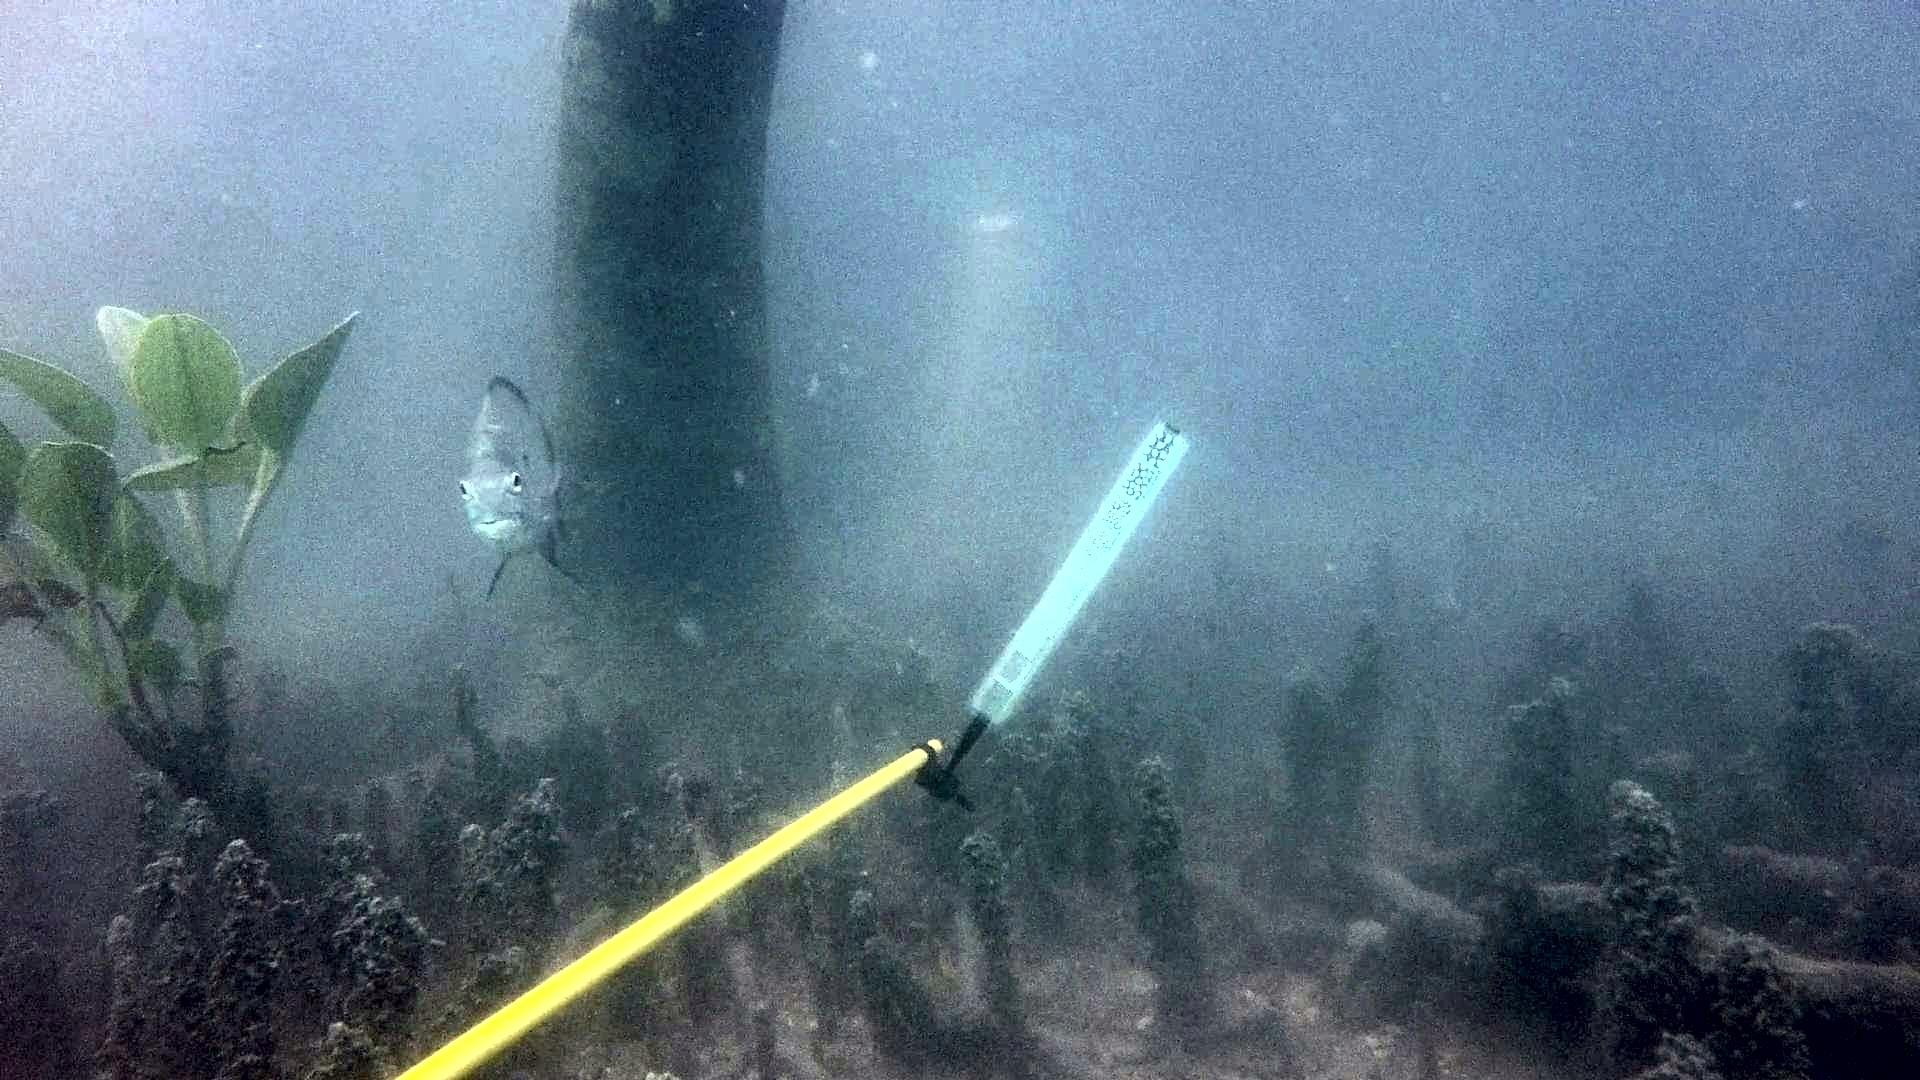acanthopagrus palmaris: (454, 365, 607, 603)
